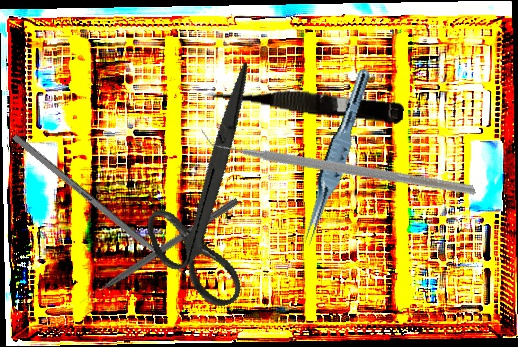Chopper: (198, 36, 477, 281)
Iris Scissors: (106, 62, 319, 322)
Micro Scissor: (203, 77, 405, 125)
Pusher: (11, 133, 198, 287), (76, 195, 240, 307)
Tissue Forceps: (298, 64, 373, 250)
